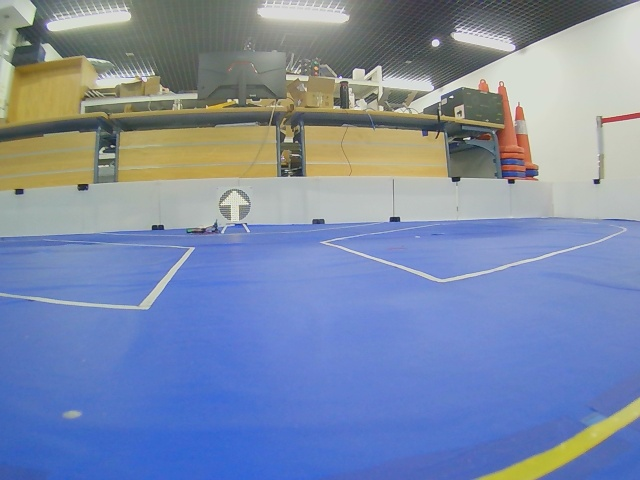straight_yellow: (218, 187, 252, 221)
